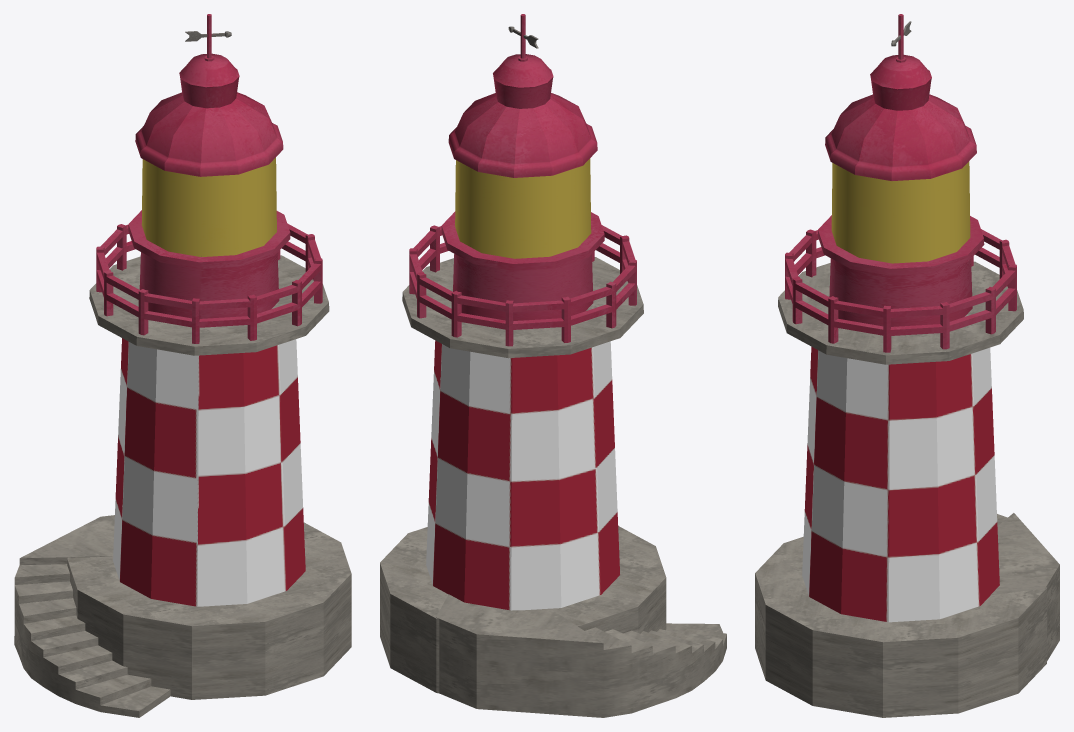
File: lighthouse.glb
3 renders of one model, left to right at view 1: azimuth 30°, elevation 25°; view 2: azimuth 150°, elevation 25°; view 3: azimuth 270°, elevation 25°, orthographic. The views are drawn at different scales.
Visible parts, largest first — view 1: lighthouse tower_geo, lighthouse staircase_geo, lighthouse roof_geo, lighthouse upperRailing_geo; view 2: lighthouse tower_geo, lighthouse staircase_geo, lighthouse roof_geo, lighthouse upperRailing_geo; view 3: lighthouse tower_geo, lighthouse roof_geo, lighthouse upperRailing_geo, lighthouse staircase_geo.
Boxes of the visible parts, box(x1,y1,x2,y2) form: lighthouse tower_geo: box(67, 157, 351, 699); lighthouse staircase_geo: box(14, 515, 170, 717); lighthouse roof_geo: box(135, 53, 283, 176); lighthouse upperRailing_geo: box(96, 223, 322, 343); lighthouse tower_geo: box(380, 158, 666, 693); lighthouse staircase_geo: box(436, 594, 726, 717); lighthouse roof_geo: box(448, 54, 597, 177); lighthouse upperRailing_geo: box(409, 225, 636, 346); lighthouse tower_geo: box(755, 161, 1046, 717); lighthouse roof_geo: box(825, 55, 976, 180); lighthouse upperRailing_geo: box(785, 229, 1016, 352); lighthouse staircase_geo: box(990, 513, 1059, 660).
Bounding box in the file's own units: 0.46 × 0.928 × 0.3996.
1 material, 1 textured.
